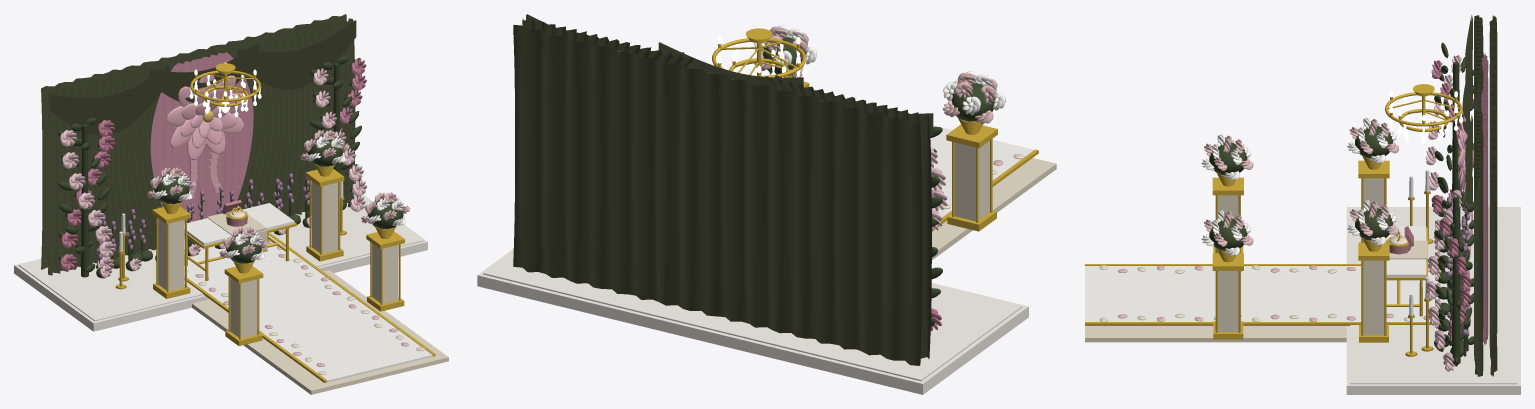
The model's file is Backdrop_Pernikahan_Romantis_Updated.glb.
3 views of the same model, side by side, from view 1: azimuth 30°, elevation 25°; view 2: azimuth 150°, elevation 25°; view 3: azimuth 270°, elevation 25° (orthographic). The views are drawn at different scales.
Visible parts, largest first — view 1: 02_Olive_Green_Drapes, 15_Aisle_Runner_Warm_Ivory, 01_Base_Stage, 04_Top_Olive_Swags, 25_Standing_Pillars_Champagne, 03_Central_Pink_Drape, 26_Standing_Pillars_Soft_Gold, 16_Aisle_Border_Champagne_Beige, 05_Giant_Central_Flower, 07_Side_Columns_Foliage, 08_Side_Columns_Blush_Roses, 09_Side_Columns_Mauve_Roses (+14 smaller); view 2: 02_Olive_Green_Drapes, 01_Base_Stage, 25_Standing_Pillars_Champagne, 16_Aisle_Border_Champagne_Beige, 26_Standing_Pillars_Soft_Gold, 15_Aisle_Runner_Warm_Ivory, 30_Chandelier_Frame_Soft_Gold, 27_Pillar_Florals_Dusty_Blush, 28_Pillar_Florals_Warm_Ivory, 04_Top_Olive_Swags, 29_Pillar_Foliage_Green, 07_Side_Columns_Foliage (+2 smaller); view 3: 15_Aisle_Runner_Warm_Ivory, 01_Base_Stage, 02_Olive_Green_Drapes, 16_Aisle_Border_Champagne_Beige, 07_Side_Columns_Foliage, 26_Standing_Pillars_Soft_Gold, 25_Standing_Pillars_Champagne, 29_Pillar_Foliage_Green, 28_Pillar_Florals_Warm_Ivory, 27_Pillar_Florals_Dusty_Blush, 08_Side_Columns_Blush_Roses, 03_Central_Pink_Drape (+14 smaller).
Boxes of the visible parts, left/top/right/bottom form: 02_Olive_Green_Drapes: left=41, top=14, right=355, bottom=275; 15_Aisle_Runner_Warm_Ivory: left=184, top=235, right=432, bottom=382; 01_Base_Stage: left=14, top=194, right=427, bottom=331; 04_Top_Olive_Swags: left=50, top=20, right=356, bottom=135; 25_Standing_Pillars_Champagne: left=158, top=181, right=398, bottom=338; 03_Central_Pink_Drape: left=150, top=52, right=259, bottom=238; 26_Standing_Pillars_Soft_Gold: left=152, top=164, right=404, bottom=345; 16_Aisle_Border_Champagne_Beige: left=184, top=245, right=448, bottom=394; 05_Giant_Central_Flower: left=166, top=74, right=248, bottom=198; 07_Side_Columns_Foliage: left=58, top=56, right=361, bottom=277; 08_Side_Columns_Blush_Roses: left=60, top=68, right=367, bottom=270; 09_Side_Columns_Mauve_Roses: left=60, top=58, right=366, bottom=270; 02_Olive_Green_Drapes: left=513, top=18, right=931, bottom=365; 01_Base_Stage: left=477, top=249, right=1028, bottom=394; 25_Standing_Pillars_Champagne: left=954, top=141, right=989, bottom=221; 16_Aisle_Border_Champagne_Beige: left=932, top=154, right=1056, bottom=259; 26_Standing_Pillars_Soft_Gold: left=769, top=72, right=997, bottom=231; 15_Aisle_Runner_Warm_Ivory: left=930, top=125, right=1033, bottom=217; 30_Chandelier_Frame_Soft_Gold: left=712, top=28, right=806, bottom=77; 27_Pillar_Florals_Dusty_Blush: left=754, top=26, right=997, bottom=124; 28_Pillar_Florals_Warm_Ivory: left=754, top=25, right=1005, bottom=115; 04_Top_Olive_Swags: left=526, top=14, right=933, bottom=136; 29_Pillar_Foliage_Green: left=763, top=37, right=994, bottom=121; 07_Side_Columns_Foliage: left=930, top=126, right=942, bottom=326; 15_Aisle_Runner_Warm_Ivory: left=1085, top=266, right=1446, bottom=321; 01_Base_Stage: left=1346, top=207, right=1520, bottom=394; 02_Olive_Green_Drapes: left=1474, top=15, right=1497, bottom=376; 16_Aisle_Border_Champagne_Beige: left=1085, top=265, right=1412, bottom=342; 07_Side_Columns_Foliage: left=1434, top=42, right=1474, bottom=366; 26_Standing_Pillars_Soft_Gold: left=1212, top=156, right=1389, bottom=342; 25_Standing_Pillars_Champagne: left=1218, top=178, right=1384, bottom=335; 29_Pillar_Foliage_Green: left=1209, top=126, right=1392, bottom=250; 28_Pillar_Florals_Warm_Ivory: left=1201, top=118, right=1396, bottom=256; 27_Pillar_Florals_Dusty_Blush: left=1204, top=119, right=1398, bottom=246; 08_Side_Columns_Blush_Roses: left=1425, top=55, right=1462, bottom=371; 03_Central_Pink_Drape: left=1481, top=53, right=1488, bottom=344.
Bounding box in the file's own units: 0.34 × 0.192 × 0.35.
